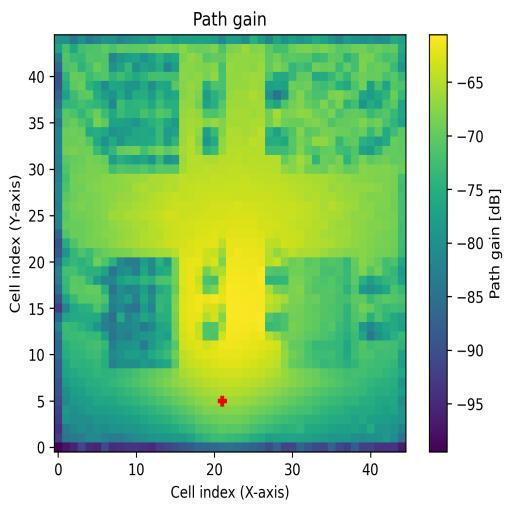Concrete: (281, 53, 359, 173)
Glass: (108, 53, 180, 174)
Metal: (282, 257, 359, 369)
Wood: (109, 258, 179, 368)
